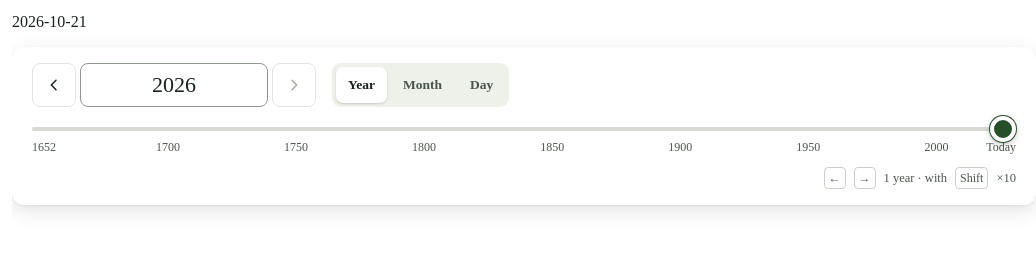
Test: the no-borders warning › replaces the precision note and shows nothing for a date with borders
The image size is (1036, 263).
Replace the text in the field named "Date shown" with "1750-06". click: x=174, y=85
box: [93,63,255,107]
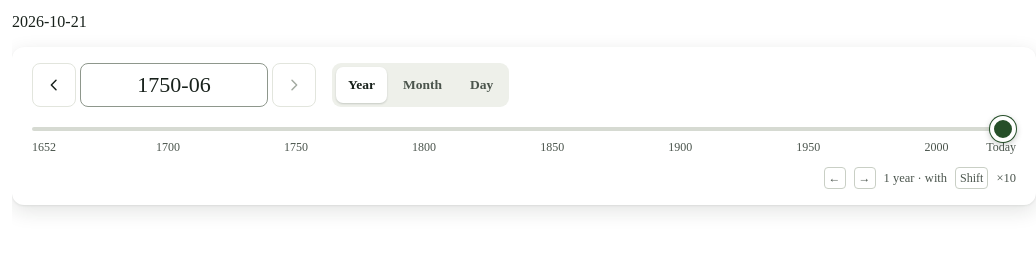
Press Enter in the field named "Date shown", box [93,63,255,107]
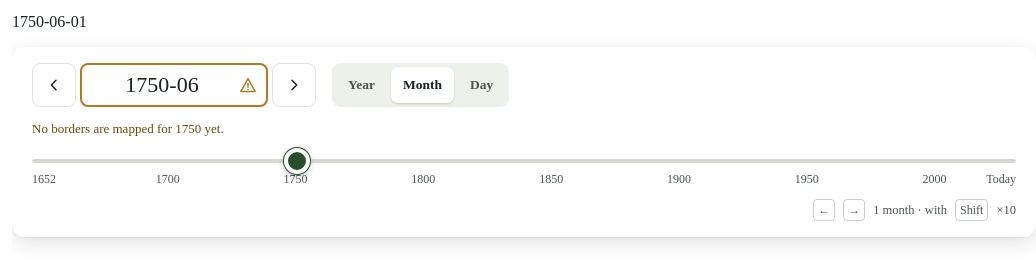
Result: the message reads "No borders are mapped for 1750 yet." at [32,121,224,136]
Replace the text in the field named "Date shown" with "2000-06-01". click: x=174, y=85
box: [93,64,255,106]
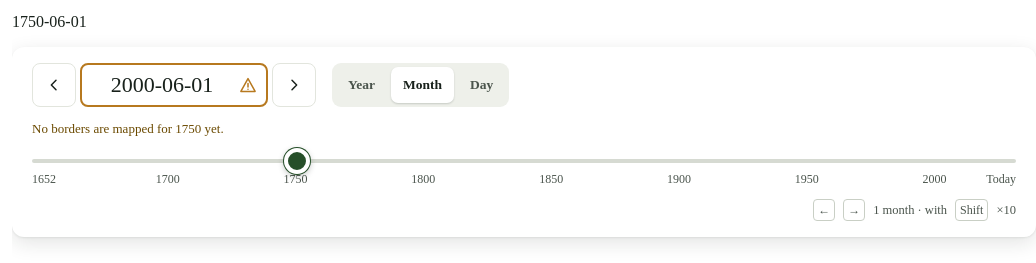
Press Enter in the field named "Date shown", box [93,64,255,106]
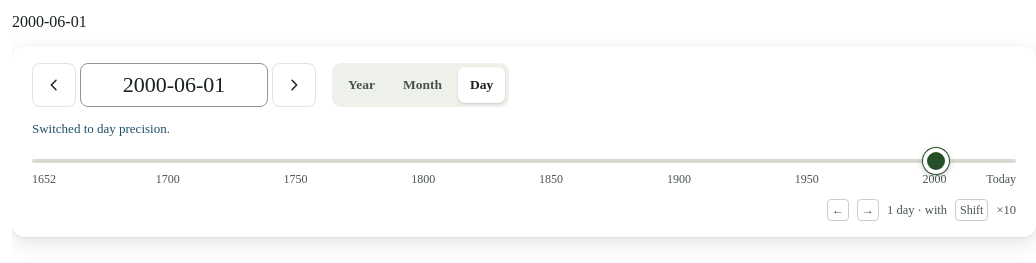
Result: the message reads "Switched to day precision." at [32,121,170,136]
